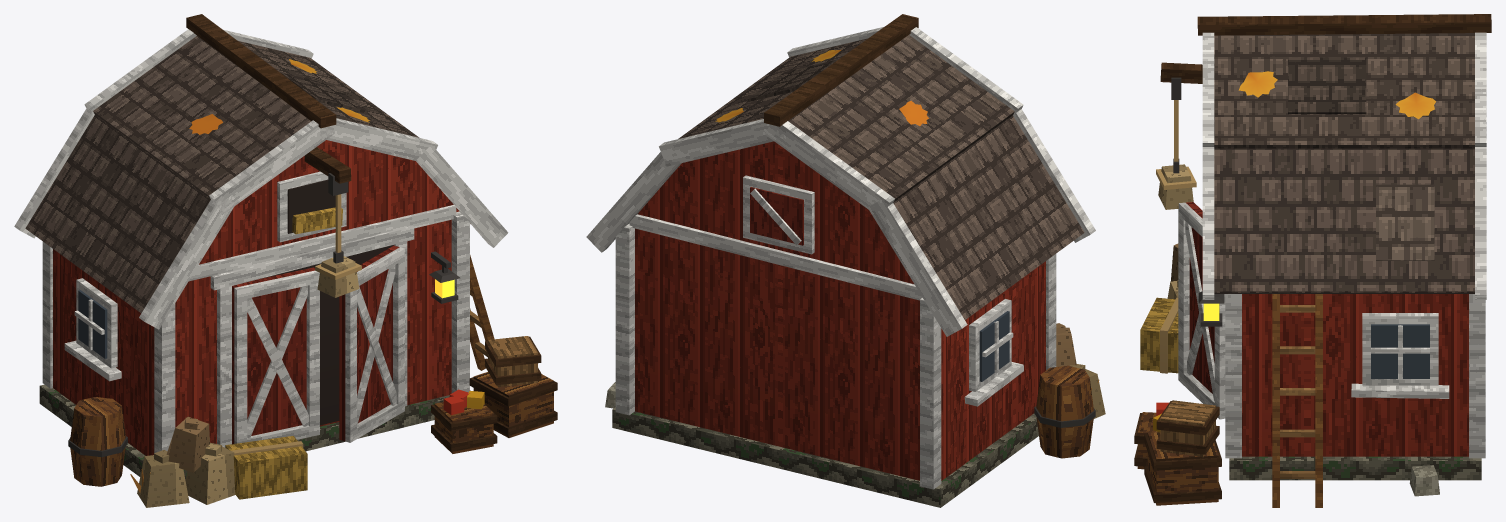
Rendered from warehouse.glb.
The picture shows the model from 3 angles, left to right: view 1: azimuth 30°, elevation 25°; view 2: azimuth 150°, elevation 25°; view 3: azimuth 270°, elevation 25°; orthographic projection. The views are drawn at different scales.
Parts seen in each view (by area): view 1: warehouse, sway_hoist; view 2: warehouse; view 3: warehouse, sway_hoist.
Boxes of the visible parts, left/top/right/bottom form: warehouse: left=14, top=14, right=557, bottom=507; sway_hoist: left=315, top=194, right=361, bottom=297; warehouse: left=586, top=14, right=1105, bottom=507; warehouse: left=1134, top=14, right=1491, bottom=507; sway_hoist: left=1156, top=100, right=1196, bottom=209.
Size of the model in its own units: 5.5 by 4.27 by 3.65.
Materials: 28 (17 with a texture image).
